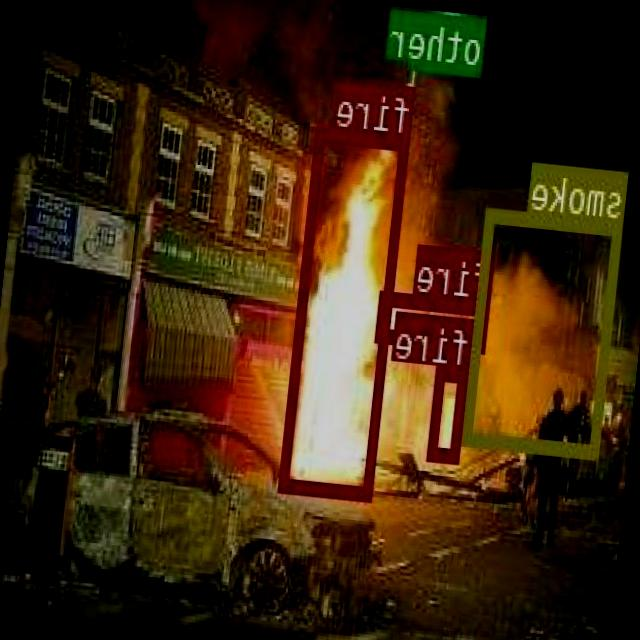fire: (279, 126, 412, 498), (378, 289, 492, 351), (430, 364, 470, 460)
smoke: (465, 204, 624, 456)
